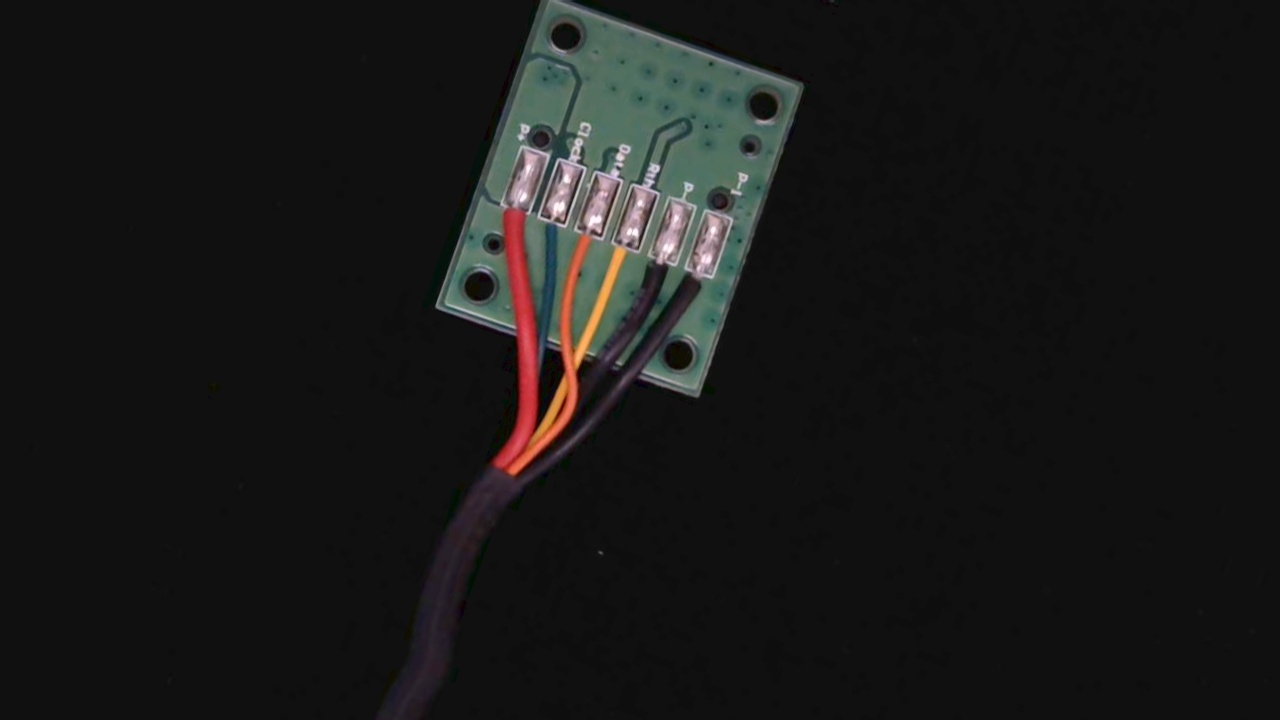Black: (630, 240, 679, 310)
Black1: (667, 255, 716, 324)
Green: (521, 196, 573, 268)
Orange: (557, 213, 607, 284)
Red: (485, 185, 534, 255)
Yellow: (594, 226, 642, 300)
